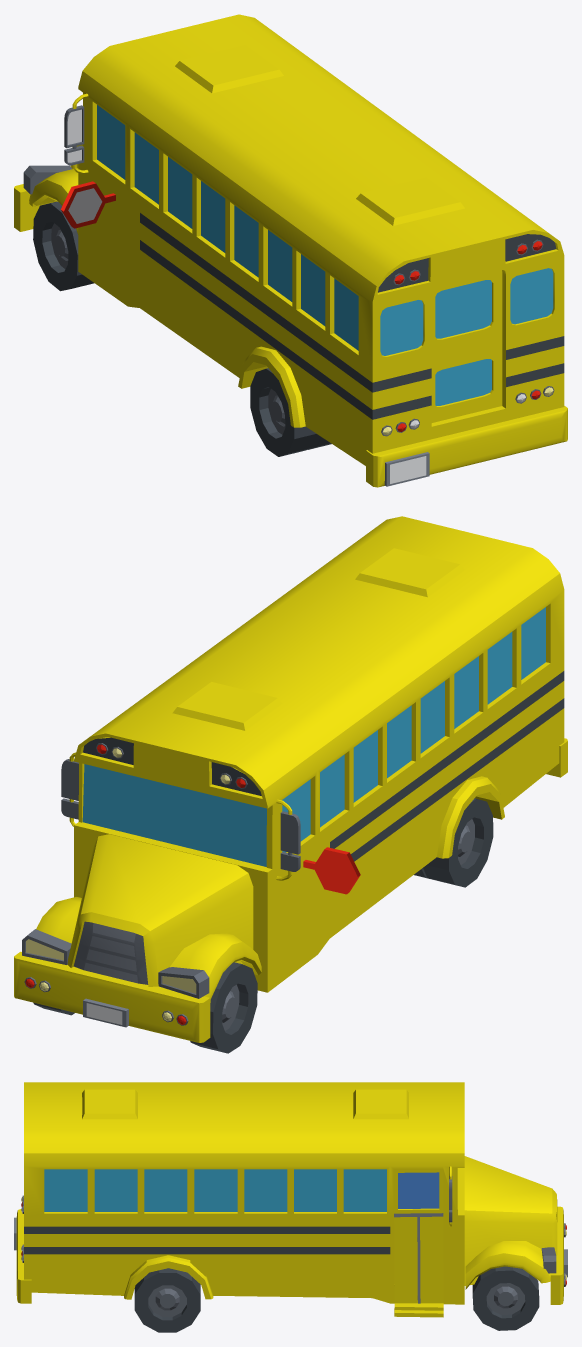
Rendered from 6_school_idle_bus_001.fbx.
3 renders of one model, top to bottom at view 1: azimuth 30°, elevation 25°; view 2: azimuth 150°, elevation 25°; view 3: azimuth 270°, elevation 25°, orthographic. The views are drawn at different scales.
Visible parts, largest first — view 1: Cube.011, Cylinder.007, Cylinder.005; view 2: Cube.011, Cylinder.005, Cylinder.007; view 3: Cube.011, Cylinder.005, Cylinder.007.
Boxes of the visible parts, <box> form: Cube.011: <box>14,14,567,487</box>; Cylinder.007: <box>250,368,331,456</box>; Cylinder.005: <box>33,201,94,291</box>; Cube.011: <box>14,516,567,1042</box>; Cylinder.005: <box>33,962,257,1053</box>; Cylinder.007: <box>414,798,493,887</box>; Cube.011: <box>14,1082,567,1317</box>; Cylinder.005: <box>472,1266,539,1330</box>; Cylinder.007: <box>134,1268,200,1332</box>.
Size of the model in its own units: 608 by 570 by 1463.
